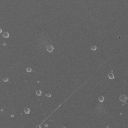corrosion: (1, 30, 12, 40), (118, 93, 128, 104), (22, 106, 32, 116), (96, 94, 106, 103), (44, 44, 55, 52), (34, 88, 43, 97), (89, 43, 98, 52), (107, 71, 115, 81), (24, 66, 33, 74), (44, 92, 54, 99), (42, 121, 51, 128), (2, 75, 9, 83)
